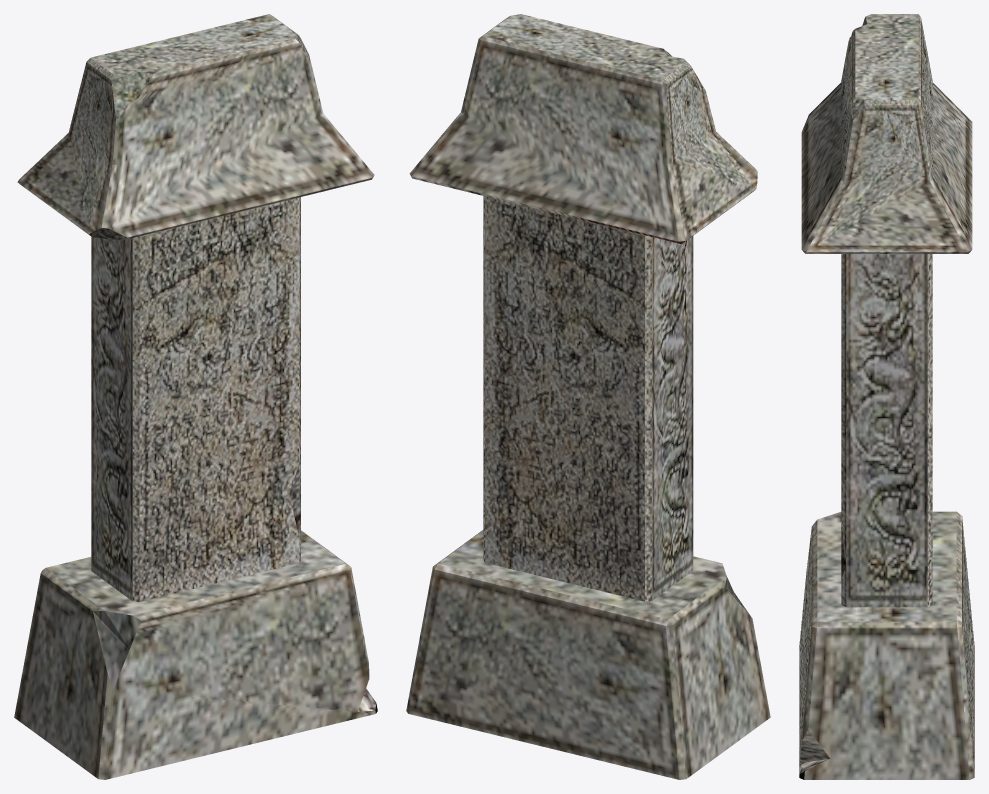
The model's file is tombstone.glb.
3 views of the same model, side by side, from view 1: azimuth 30°, elevation 25°; view 2: azimuth 150°, elevation 25°; view 3: azimuth 270°, elevation 25° (orthographic).
Parts seen in each view (by area): view 1: Object03; view 2: Object03; view 3: Object03.
Boxes of the visible parts, <box> form: Object03: <box>14,14,377,779</box>; Object03: <box>406,14,770,779</box>; Object03: <box>799,14,974,779</box>.
Size of what is drawn, in the model's own units: 2.44 by 5.56 by 1.35.
Materials: 1 (1 with a texture image).
